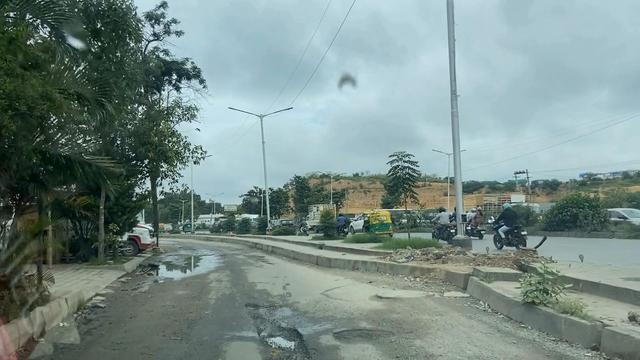RoadDamages: (246, 302, 311, 360), (327, 323, 408, 351), (373, 286, 458, 309)
